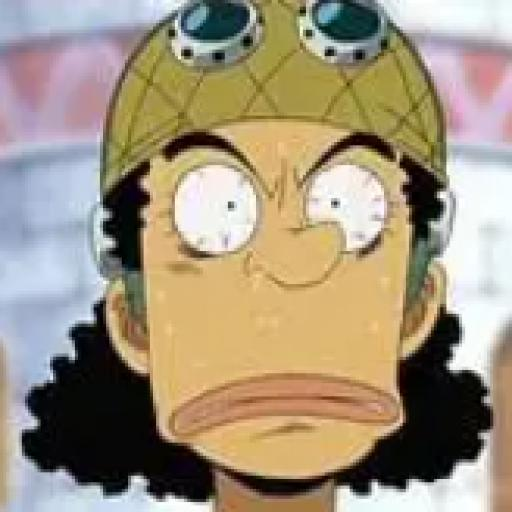Usopp: (12, 0, 512, 509)
